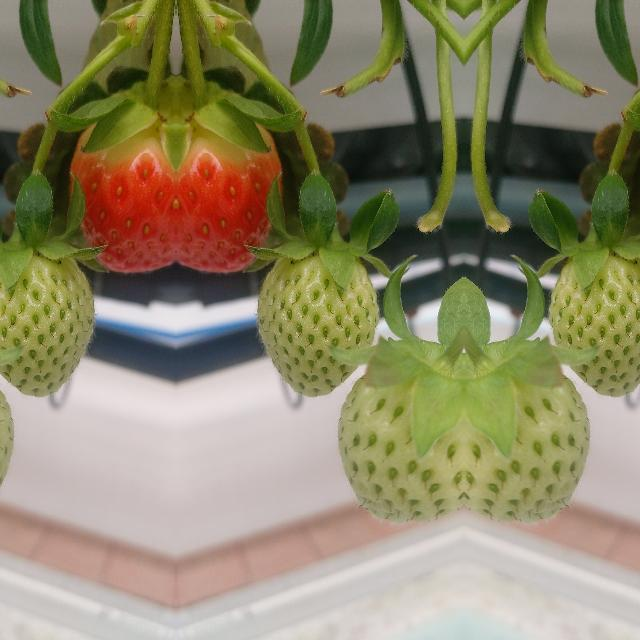Health_100: (175, 110, 287, 274), (63, 110, 175, 274)
Health_25: (336, 337, 462, 529), (464, 337, 590, 529), (256, 251, 378, 397), (0, 251, 93, 397), (548, 251, 640, 397)
